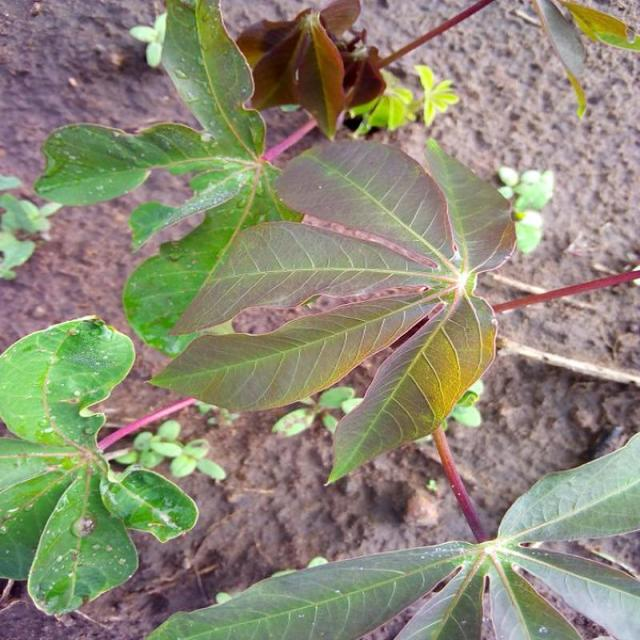cassava leaf: (145, 136, 518, 486), (2, 312, 200, 618), (324, 287, 499, 486)
